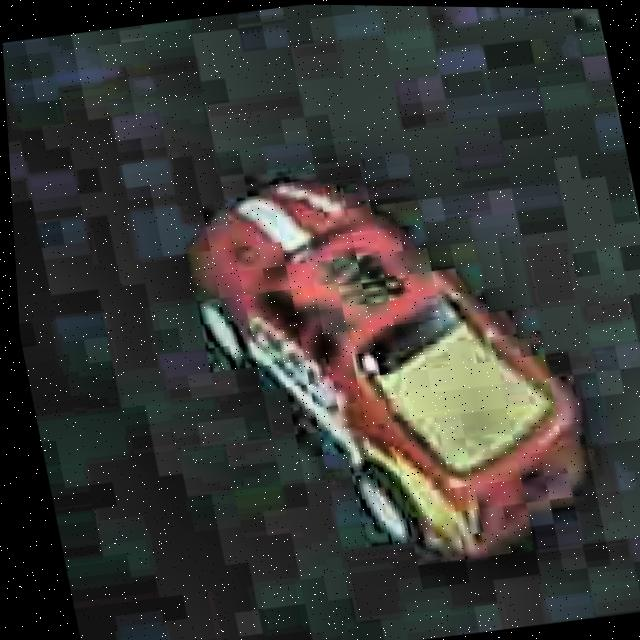car: (164, 141, 612, 600)
